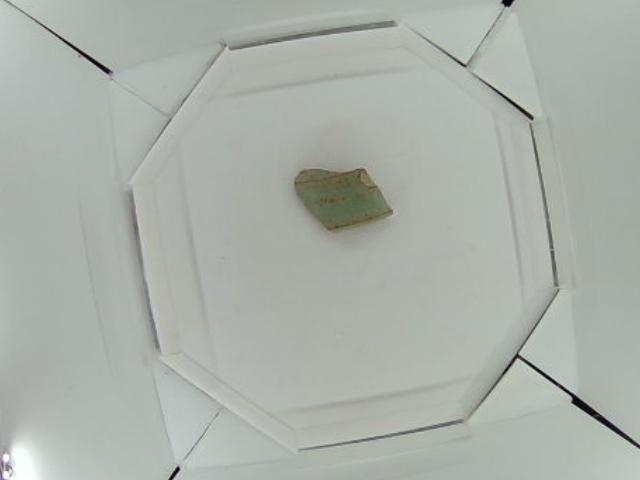China: (293, 161, 394, 234)
